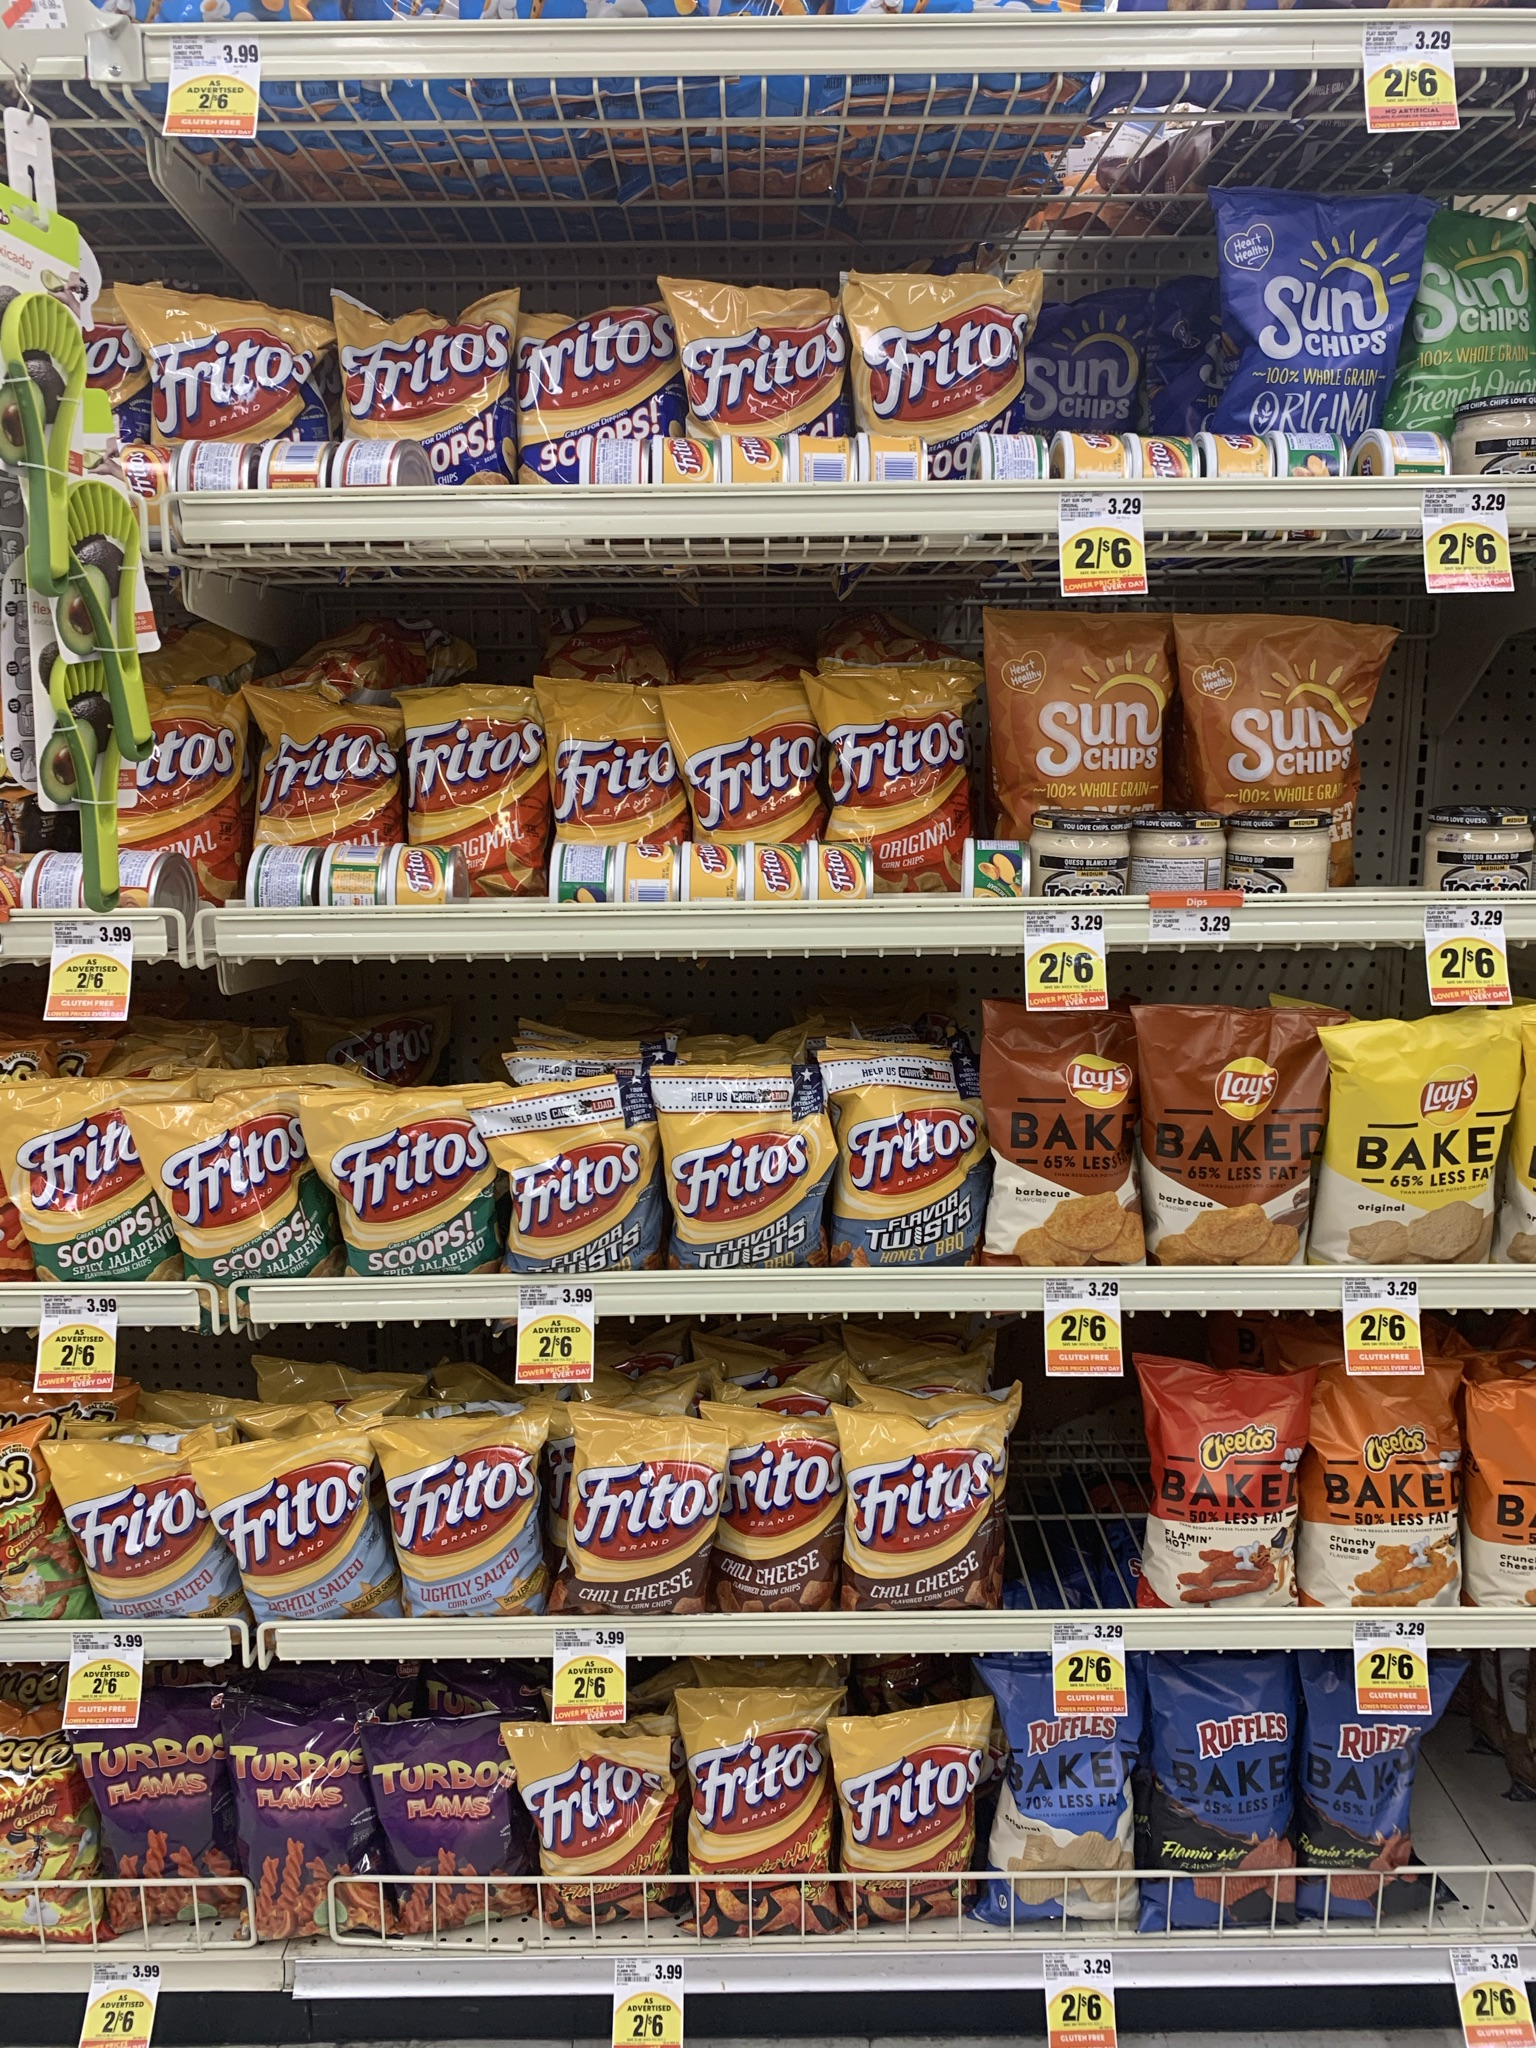Chips: (1213, 177, 1420, 464), (978, 595, 1167, 898), (1176, 590, 1379, 868), (1144, 987, 1320, 1263), (1300, 1355, 1481, 1617), (1333, 1001, 1525, 1248), (1136, 1642, 1305, 1908), (992, 1650, 1146, 1932), (983, 998, 1146, 1263), (1137, 1359, 1317, 1593), (507, 1705, 678, 1934), (686, 1675, 837, 1932), (824, 1696, 1000, 1914), (73, 1711, 240, 1932), (334, 273, 511, 481), (858, 256, 1034, 464), (816, 671, 979, 895), (242, 676, 395, 913), (126, 279, 323, 460), (373, 1413, 560, 1601), (319, 1079, 490, 1284), (363, 1696, 518, 1922), (644, 1076, 828, 1263), (665, 269, 844, 456), (224, 1709, 390, 1909), (570, 1405, 726, 1614), (211, 1417, 386, 1605), (124, 1100, 307, 1276), (833, 1048, 984, 1258), (850, 1395, 1008, 1595), (407, 677, 544, 898), (681, 679, 826, 884), (515, 293, 666, 487), (3, 1076, 158, 1263), (557, 669, 682, 887), (503, 1089, 660, 1258)
